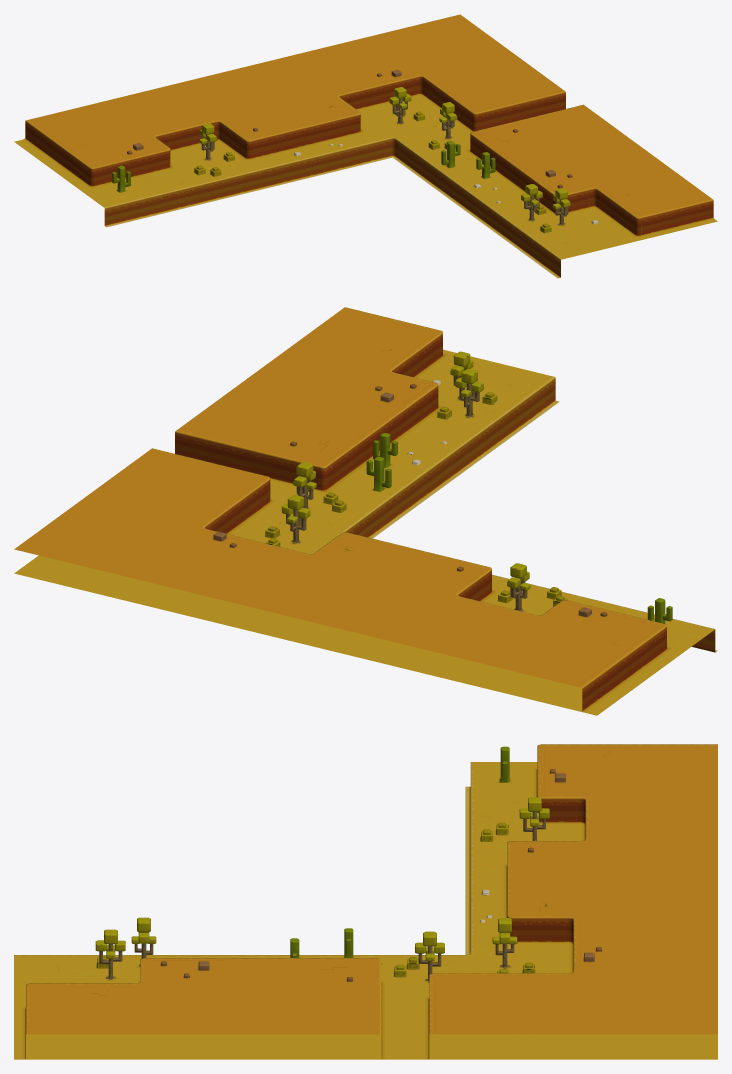
File: C_mountain1_out_LD.fbx
3 renders of one model, top to bottom at view 1: azimuth 30°, elevation 25°; view 2: azimuth 150°, elevation 25°; view 3: azimuth 270°, elevation 25°, orthographic. The views are drawn at different scales.
Visible parts, largest first — view 1: C_mountain1_out_LD; view 2: C_mountain1_out_LD; view 3: C_mountain1_out_LD.
Part boxes in pixels (left/top/right/bottom): C_mountain1_out_LD: left=14, top=14, right=717, bottom=278; C_mountain1_out_LD: left=14, top=307, right=717, bottom=715; C_mountain1_out_LD: left=14, top=744, right=717, bottom=1059.
Bounding box in the file's own units: 117 × 13.14 × 117.
